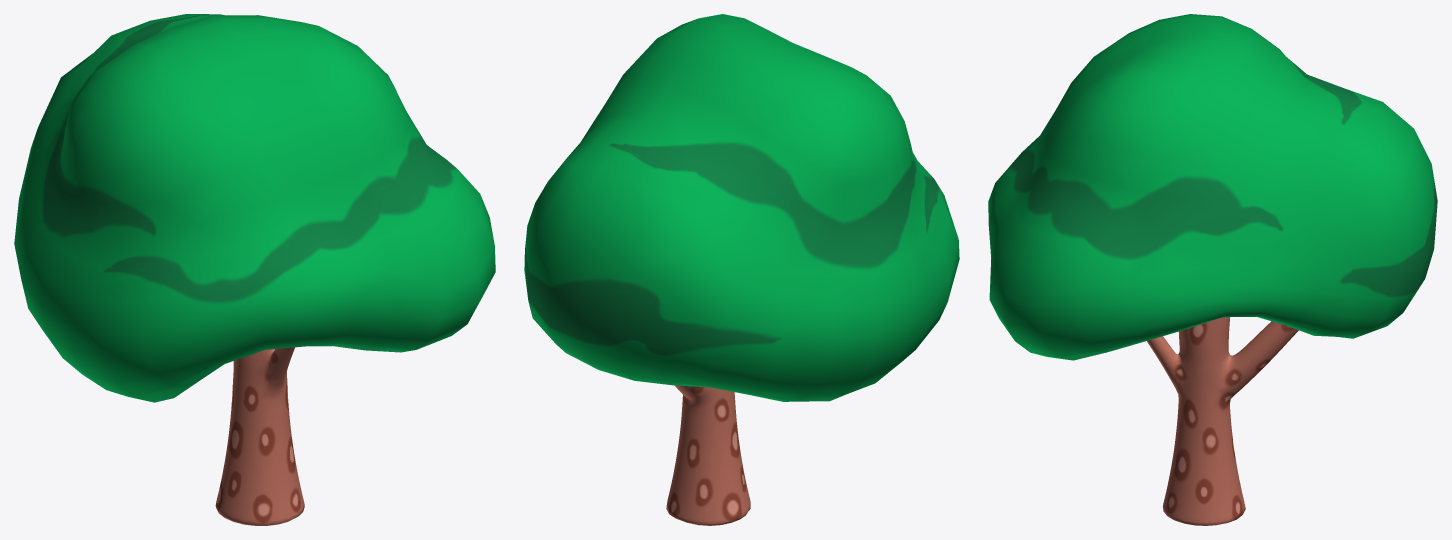
Rendered from treeTwo.fbx.
3 renders of one model, left to right at view 1: azimuth 30°, elevation 25°; view 2: azimuth 150°, elevation 25°; view 3: azimuth 270°, elevation 25°, orthographic. The views are drawn at different scales.
Parts seen in each view (by area): view 1: SecondTree_LOD0; view 2: SecondTree_LOD0; view 3: SecondTree_LOD0.
Part boxes in pixels (x1=…): SecondTree_LOD0: x1=14, y1=14, x2=495, y2=525; SecondTree_LOD0: x1=524, y1=14, x2=959, y2=525; SecondTree_LOD0: x1=988, y1=14, x2=1437, y2=525.
Bounding box in the file's own units: 16.77 × 20.7 × 18.46.
2 materials, 2 textured.
